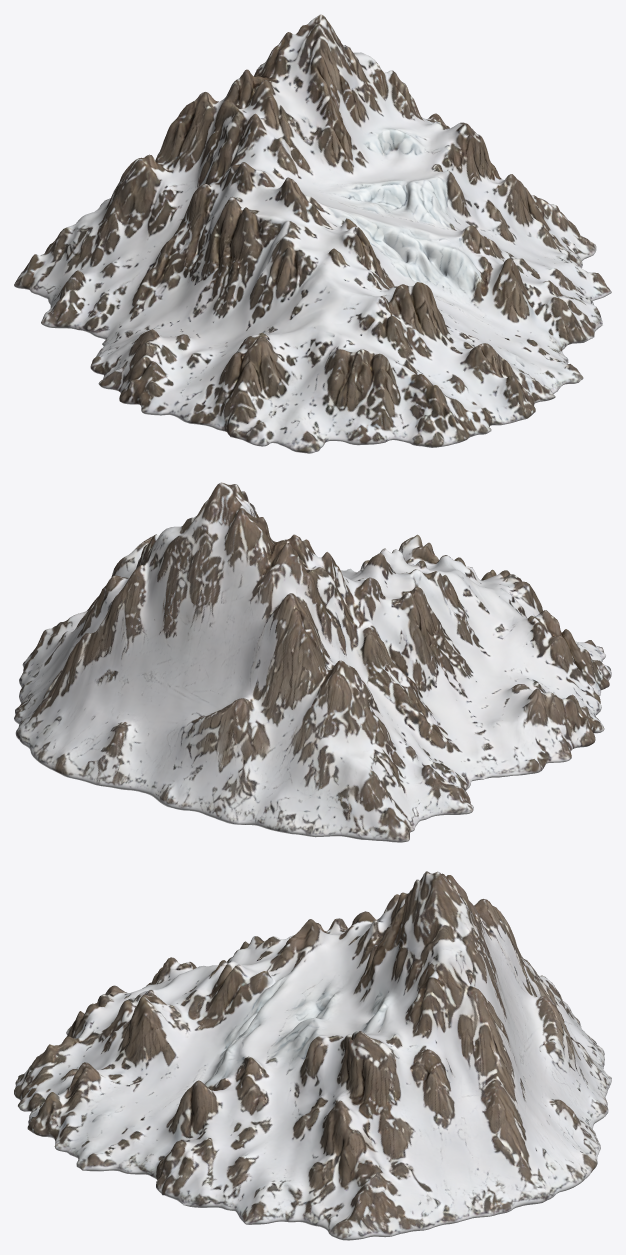
Rendered from EEdt0FRWfICkMgqnvxikm_base_basic_pbr.glb.
3 views of the same model, one above another, from view 1: azimuth 30°, elevation 25°; view 2: azimuth 150°, elevation 25°; view 3: azimuth 270°, elevation 25° (orthographic).
Visible parts, largest first — view 1: model; view 2: model; view 3: model.
Boxes of the visible parts, bbox=[...] form: model: bbox=[14, 14, 611, 453]; model: bbox=[14, 482, 611, 842]; model: bbox=[14, 871, 611, 1240].
Bounding box in the file's own units: 1.87 × 0.8969 × 1.88.
Materials: 1 (1 with a texture image).
